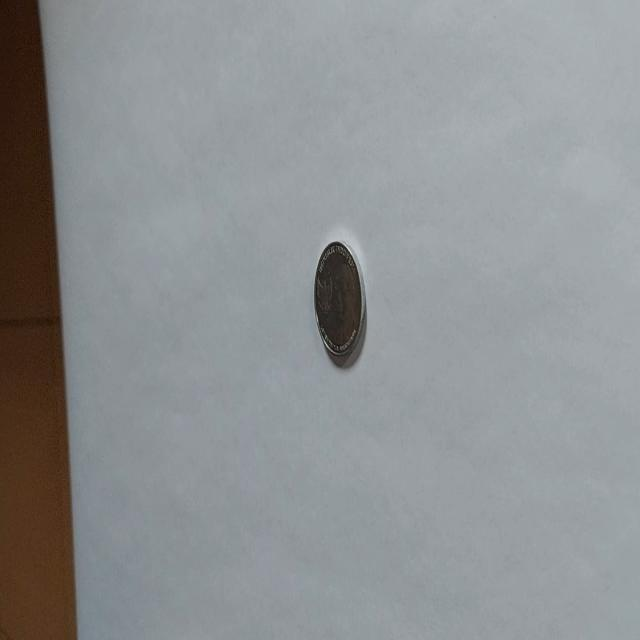lima ratus rupiah: (313, 238, 367, 366)
